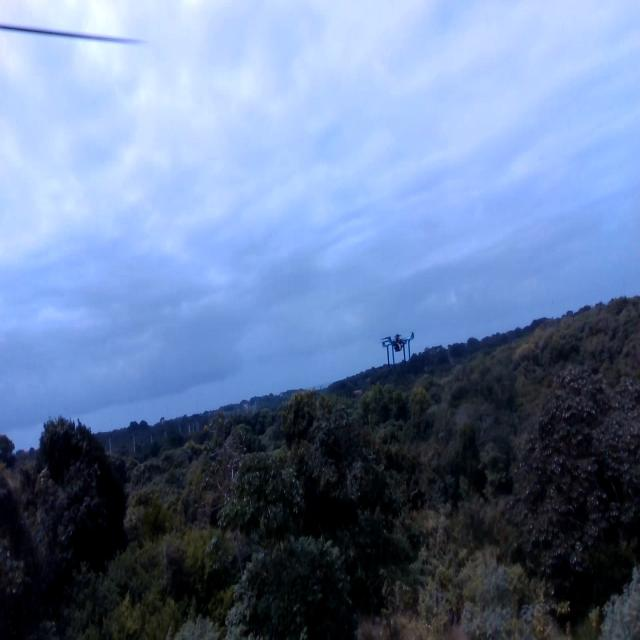-uav-: (378, 325, 421, 379)
